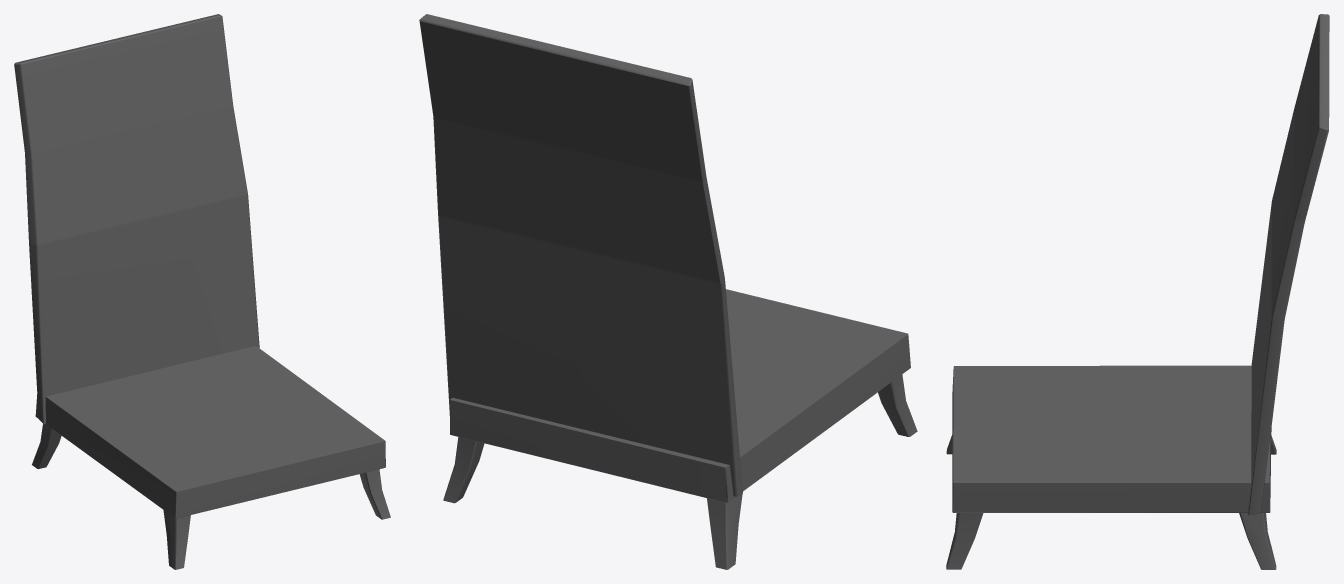
The model's file is Chair_215_2_chair_215_0.obj.
3 renders of one model, left to right at view 1: azimuth 30°, elevation 25°; view 2: azimuth 150°, elevation 25°; view 3: azimuth 270°, elevation 25°, orthographic. The views are drawn at different scales.
Bounding box in the file's own units: 0.6198 × 1.04 × 0.8226.
